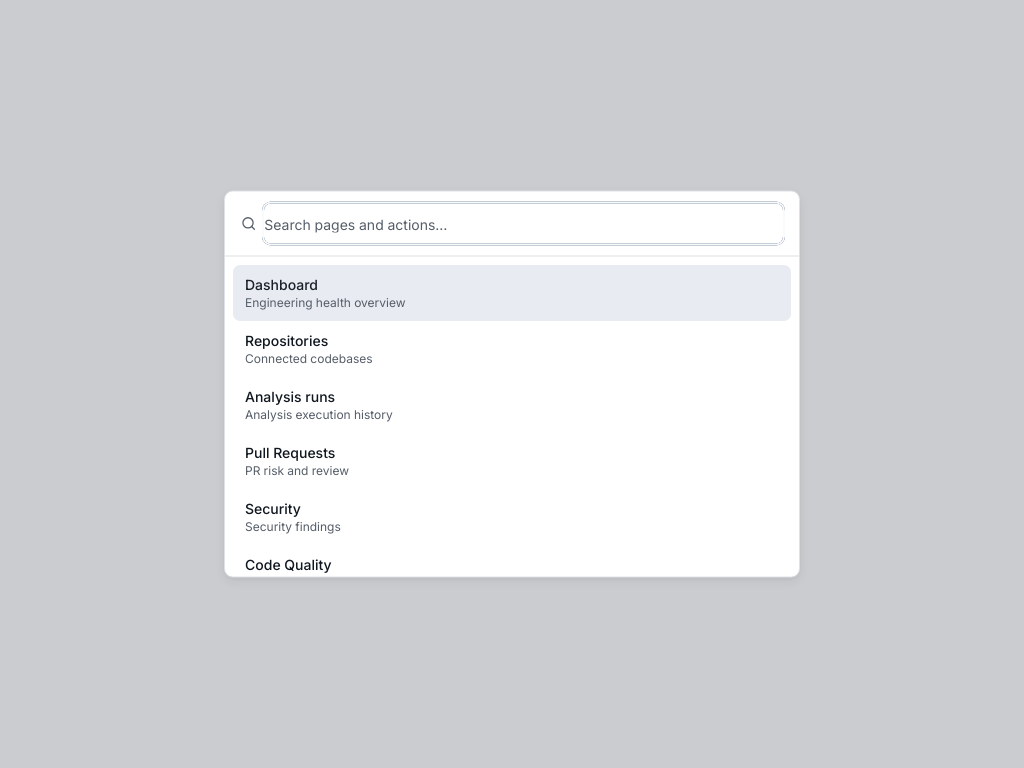
Test: CommandPalette › includes settings shortcuts
The image size is (1024, 768).
Step 1. Type "audit log" into the field with placeholder "Search pages and actions…" → [524, 224], box [264,204,783,244]
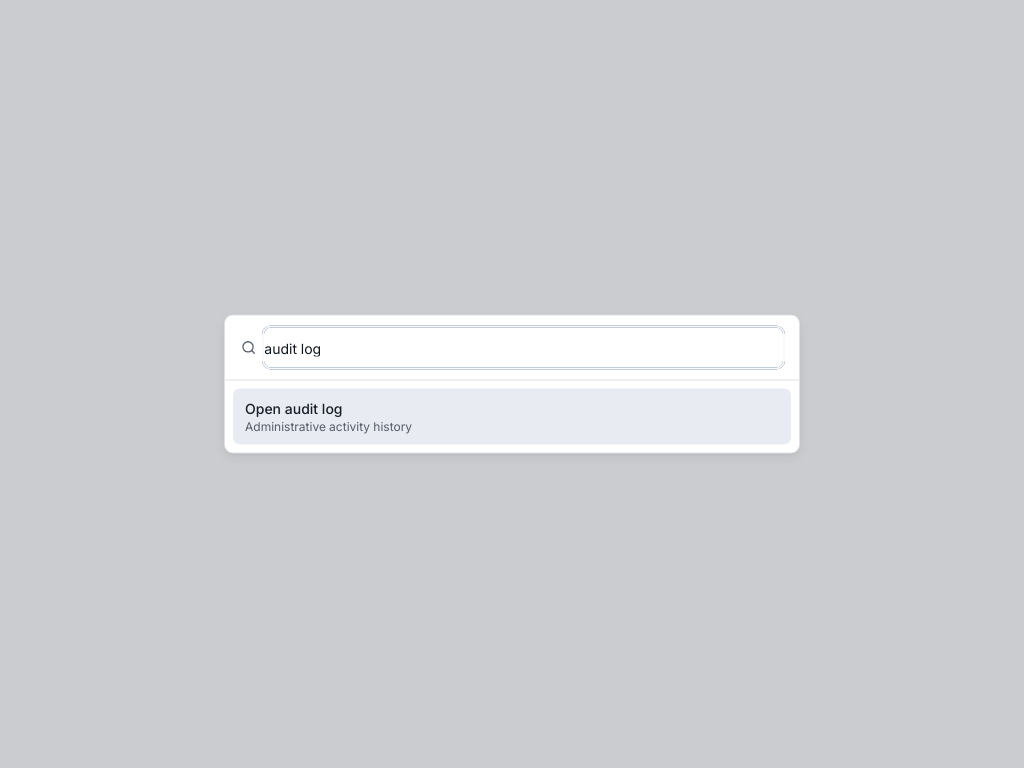
Now the option "Open audit log Administrative activity history" is shown, box [233,388,791,444]
